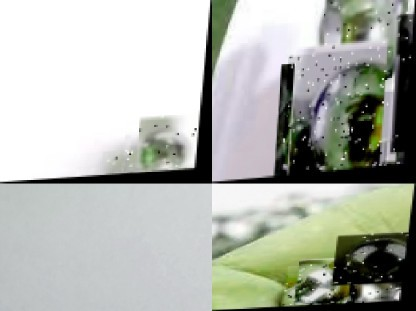ironball: (283, 50, 394, 177), (313, 0, 409, 93), (334, 235, 409, 287), (138, 116, 202, 173), (286, 264, 364, 308), (392, 17, 414, 157), (104, 151, 150, 177), (358, 282, 399, 305), (378, 144, 402, 169)
